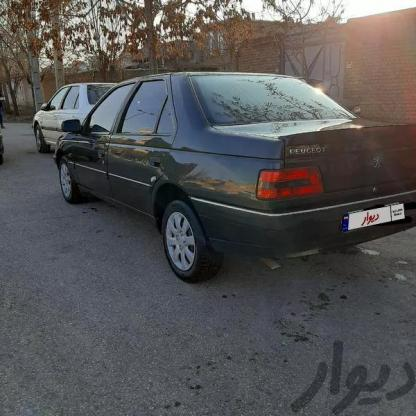Car: (32, 42, 416, 316), (10, 76, 109, 139)
